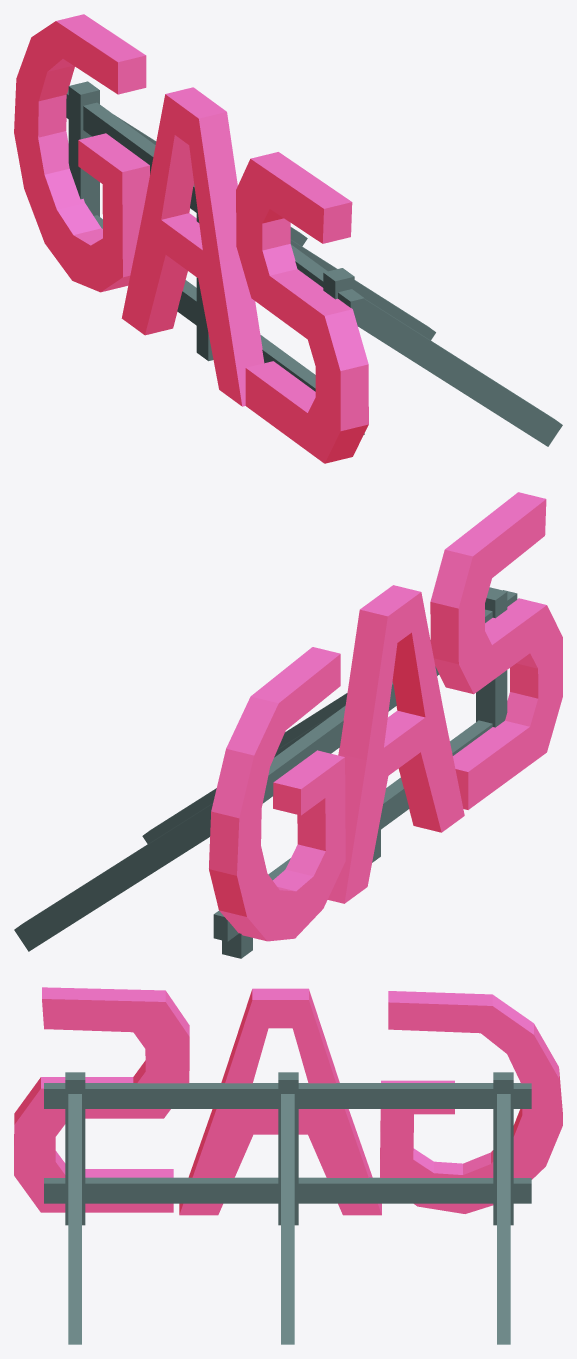
File: SM_Gas_Station_Hoarding.fbx
3 views of the same model, one above another, from view 1: azimuth 30°, elevation 25°; view 2: azimuth 150°, elevation 25°; view 3: azimuth 270°, elevation 25° (orthographic). The views are drawn at different scales.
Parts seen in each view (by area): view 1: SM_Gas_Station_Hoarding_LOD0; view 2: SM_Gas_Station_Hoarding_LOD0; view 3: SM_Gas_Station_Hoarding_LOD0.
Part boxes in pixels (left/top/right/bottom): SM_Gas_Station_Hoarding_LOD0: left=14, top=14, right=562, bottom=463; SM_Gas_Station_Hoarding_LOD0: left=14, top=492, right=562, bottom=958; SM_Gas_Station_Hoarding_LOD0: left=14, top=987, right=562, bottom=1344.
Size of the model in its own units: 300 by 667 by 347.
1 material, 1 textured.
